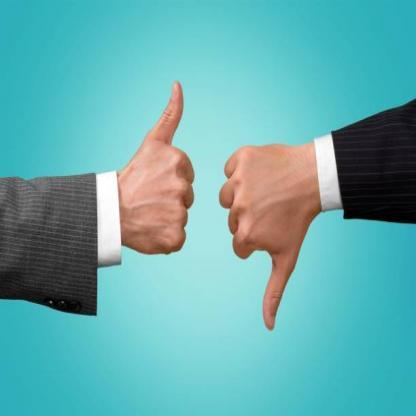thumb_up: (218, 139, 306, 333), (124, 78, 197, 261)
